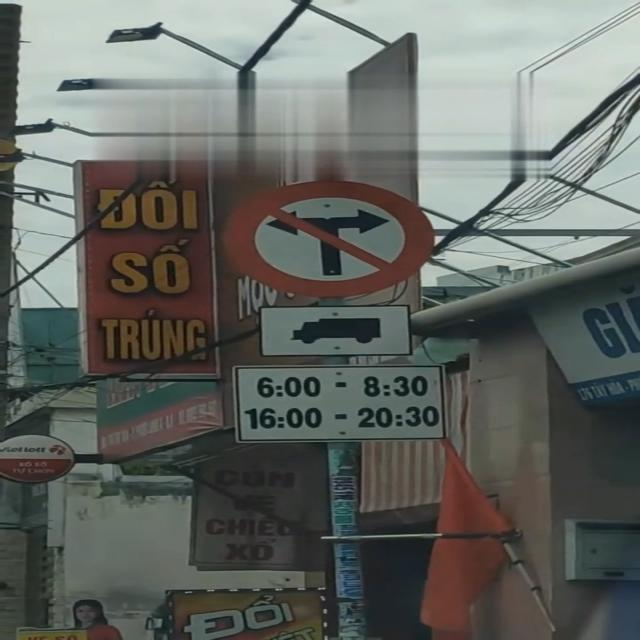137-cam-re-trai-va-re-phai: (225, 180, 428, 294)
